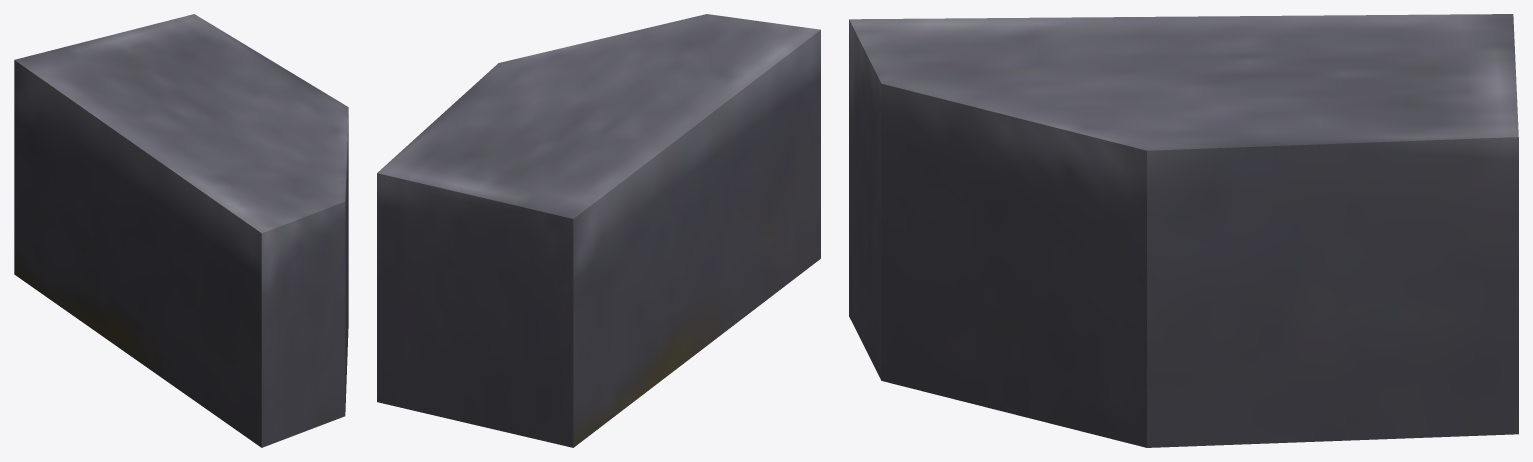
The model's file is forget_level02_02_06.FBX.
3 renders of one model, left to right at view 1: azimuth 30°, elevation 25°; view 2: azimuth 150°, elevation 25°; view 3: azimuth 270°, elevation 25°, orthographic. The views are drawn at different scales.
Visible parts, largest first — view 1: forget_level02_02_06; view 2: forget_level02_02_06; view 3: forget_level02_02_06.
Boxes of the visible parts, x1=… form: forget_level02_02_06: x1=14, y1=14, x2=348, y2=447; forget_level02_02_06: x1=377, y1=14, x2=820, y2=447; forget_level02_02_06: x1=849, y1=14, x2=1518, y2=447.
Size of the model in its own units: 15.1 by 15.3 by 31.25.
